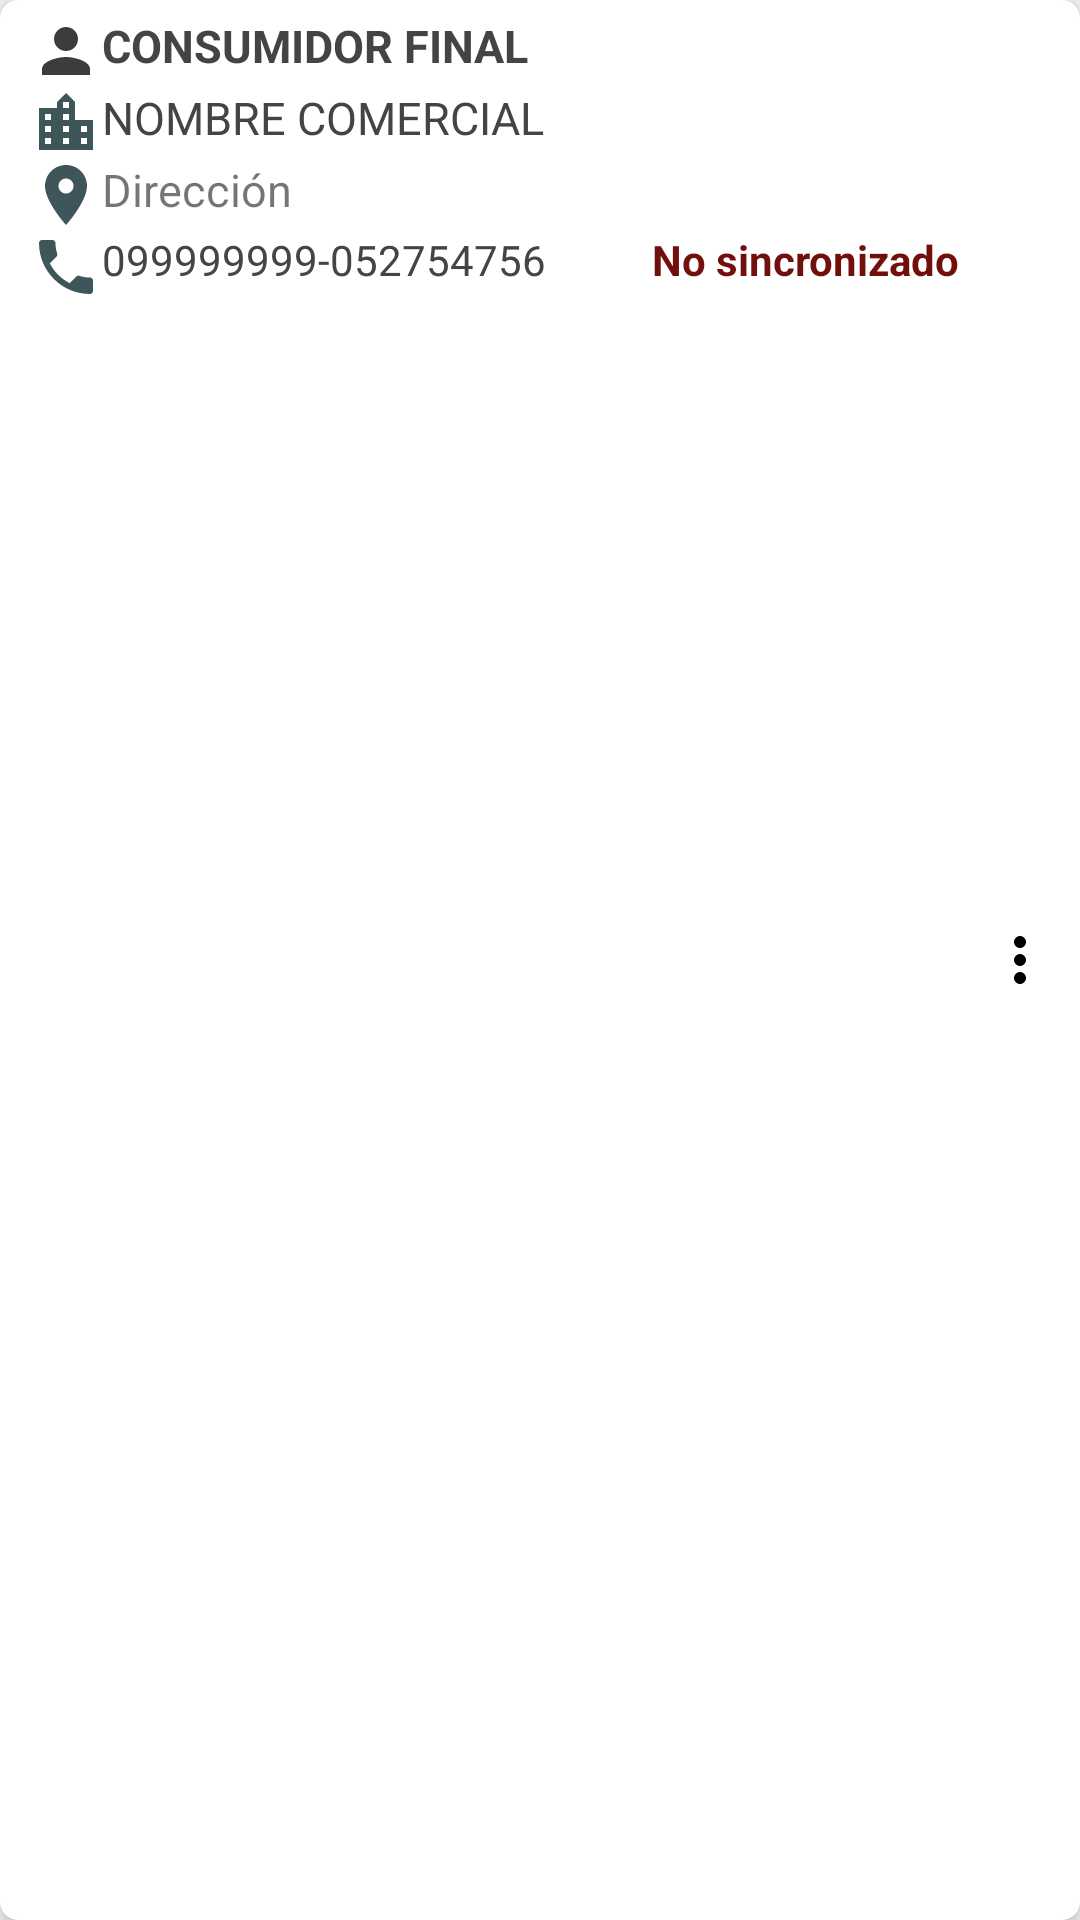

Icons on this 1080px×1920px Android screen, each with the point to tap as (x=x, y=y):
options: (x=1020, y=960)
